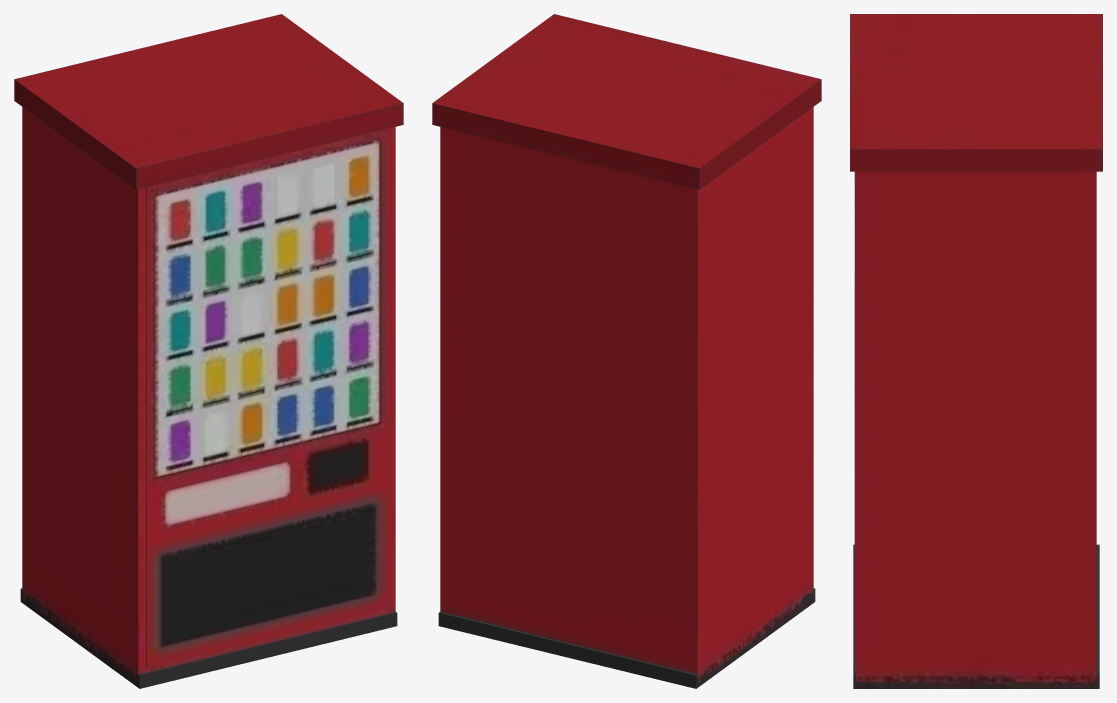
File: detail_vendingMachine.glb
3 views of the same model, side by side, from view 1: azimuth 30°, elevation 25°; view 2: azimuth 150°, elevation 25°; view 3: azimuth 270°, elevation 25° (orthographic). The views are drawn at different scales.
Parts seen in each view (by area): view 1: detail_vendingMachine_LOD0; view 2: detail_vendingMachine_LOD0; view 3: detail_vendingMachine_LOD0.
Part boxes in pixels (box(x1,y1,x2,y2)): detail_vendingMachine_LOD0: box(14, 14, 403, 688); detail_vendingMachine_LOD0: box(432, 14, 821, 688); detail_vendingMachine_LOD0: box(850, 14, 1102, 688).
Size of what is drawn, in the model's own units: 1.04 by 1.94 by 0.8203.
1 material, 1 textured.
